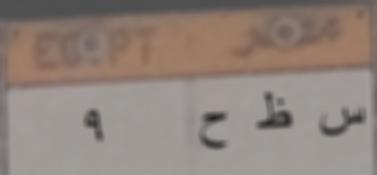7aa: (194, 104, 235, 156)
9: (78, 104, 120, 147)
Thaa: (253, 86, 295, 140)
seen: (314, 93, 368, 146)
